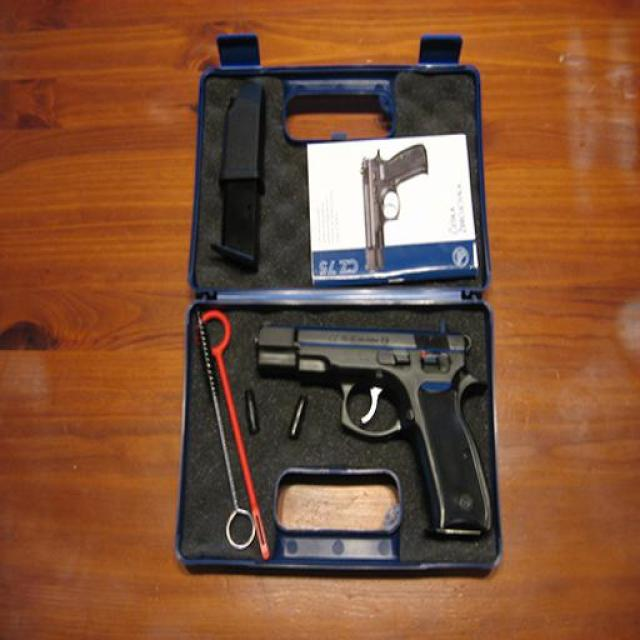pistol: (251, 323, 492, 538), (359, 146, 430, 272)
